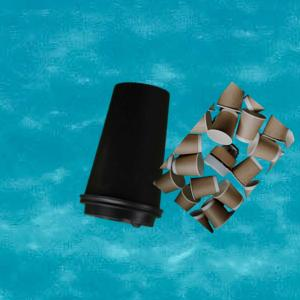cup: (79, 82, 171, 230)
